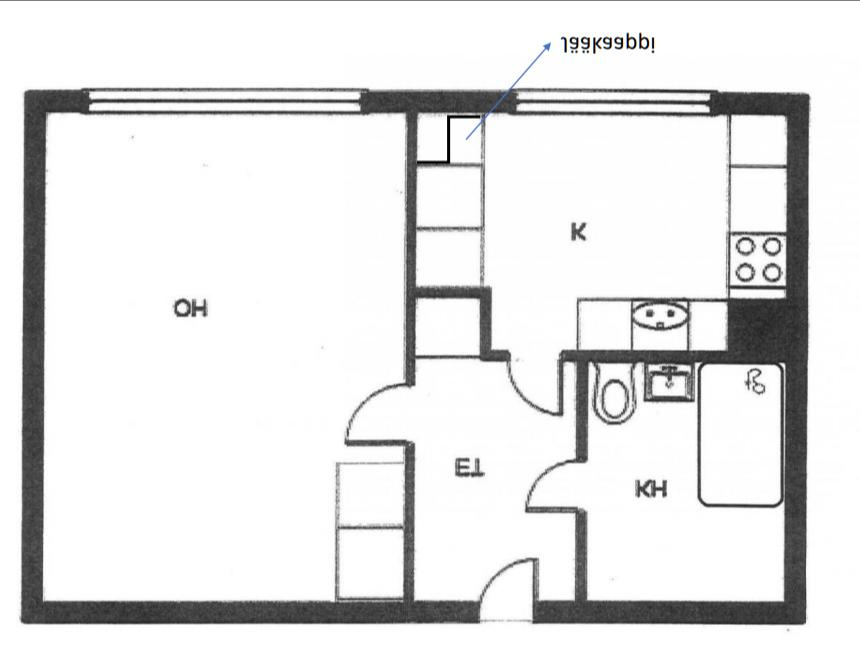bathroom: (586, 362, 786, 600)
door: (341, 375, 421, 452), (473, 552, 542, 630), (502, 347, 568, 423), (523, 451, 593, 520)
perimeter: (21, 91, 812, 624)
window: (76, 85, 374, 123), (501, 83, 726, 123)
